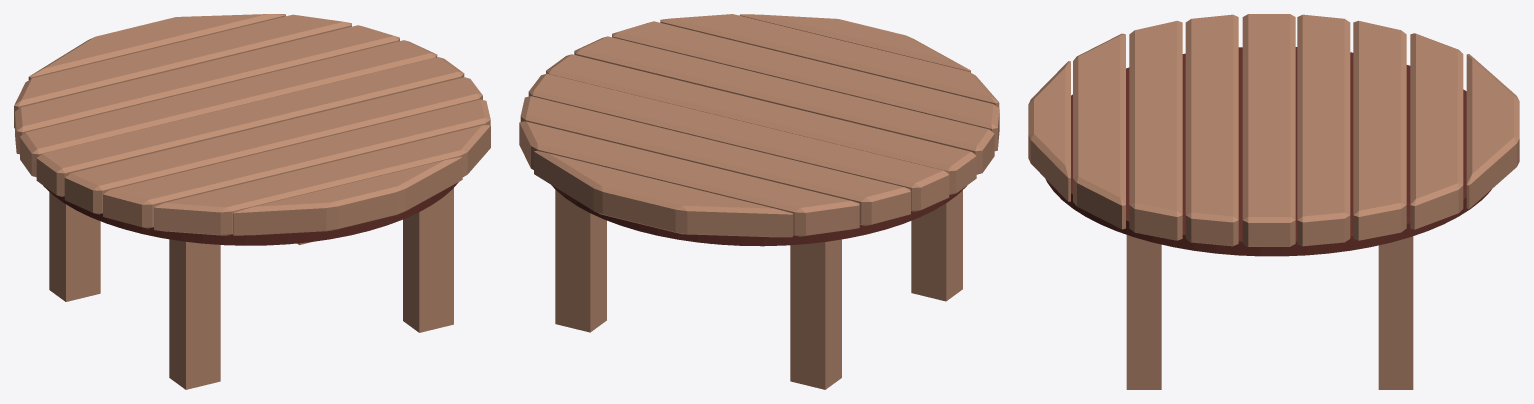
Rendered from table_nearsofa_garden.fbx.
3 views of the same model, side by side, from view 1: azimuth 30°, elevation 25°; view 2: azimuth 150°, elevation 25°; view 3: azimuth 270°, elevation 25° (orthographic). The views are drawn at different scales.
Visible parts, largest first — view 1: table_nearchairs_garden, Cube.006; view 2: table_nearchairs_garden, Cube.006; view 3: table_nearchairs_garden, Cube.006.
Boxes of the visible parts, left/top/right/bottom form: table_nearchairs_garden: left=14, top=14, right=490, bottom=389; Cube.006: left=43, top=182, right=458, bottom=245; table_nearchairs_garden: left=519, top=14, right=999, bottom=389; Cube.006: left=551, top=185, right=966, bottom=246; table_nearchairs_garden: left=1028, top=14, right=1519, bottom=389; Cube.006: left=1045, top=47, right=1491, bottom=256.
Size of the model in its own units: 108 by 49.42 by 107.
